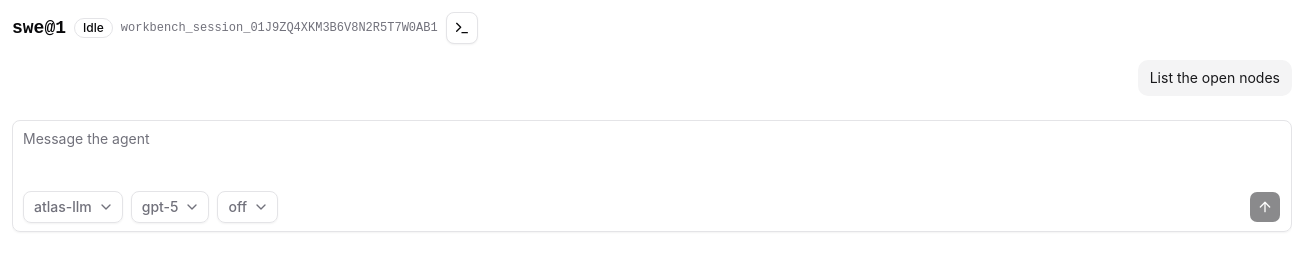
ChatScreen › offers the agent providers of the enablement of the agent
The width and height of the screenshot is (1304, 276).
Click the dropdown named "Agent Provider" at (73, 207), box [23,191,123,223]
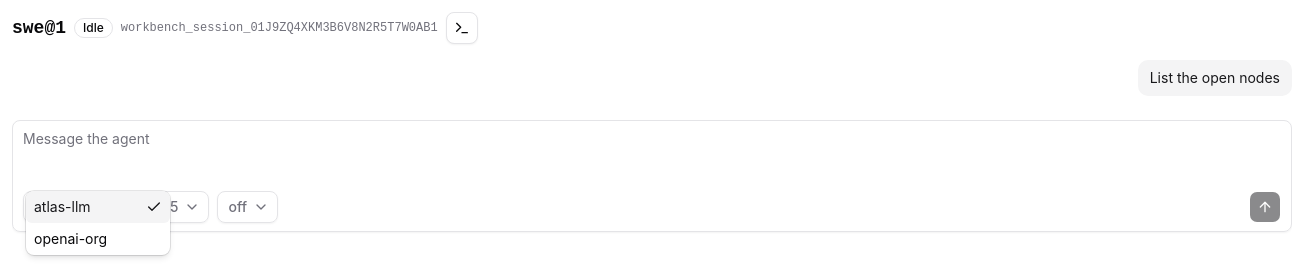
expect the option "openai-org" is shown: met, box [34,230,107,247]
